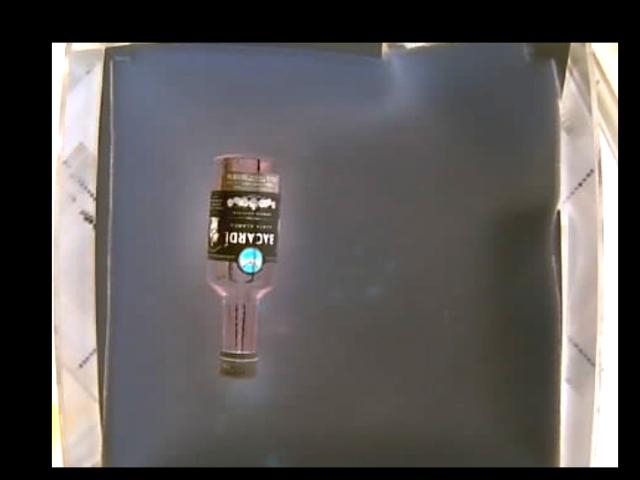Bottle: (201, 154, 282, 379)
